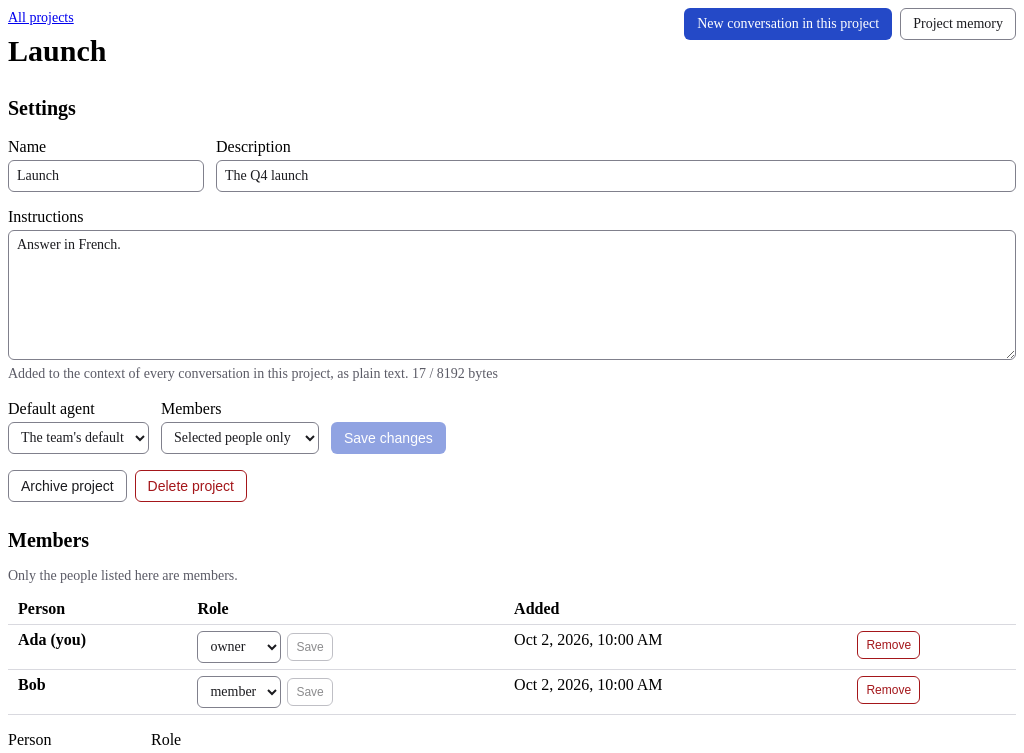
Test case: project members (KOBE-164, ac-1) › changes a role and removes a member after confirming
Select "owner" in the dropdown named "Project role of Bob" next to "Bob" at [239, 692], box [197,676,281,708]
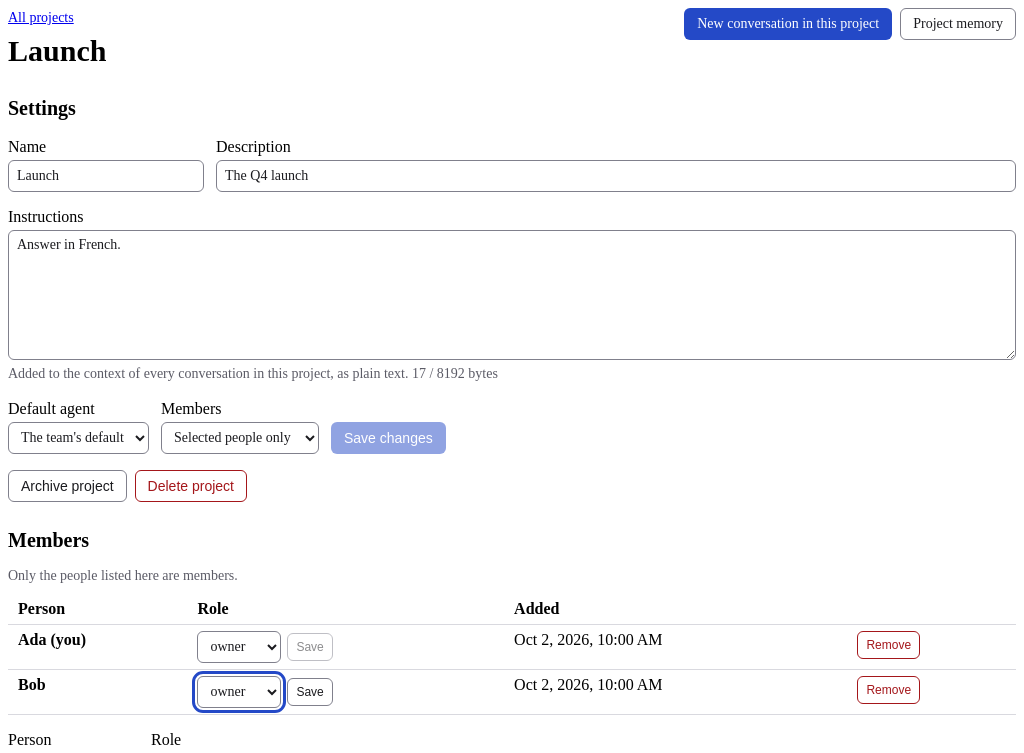
Click the button "Save" in the row of "Bob".
click(310, 692)  # box [287,678,333,706]
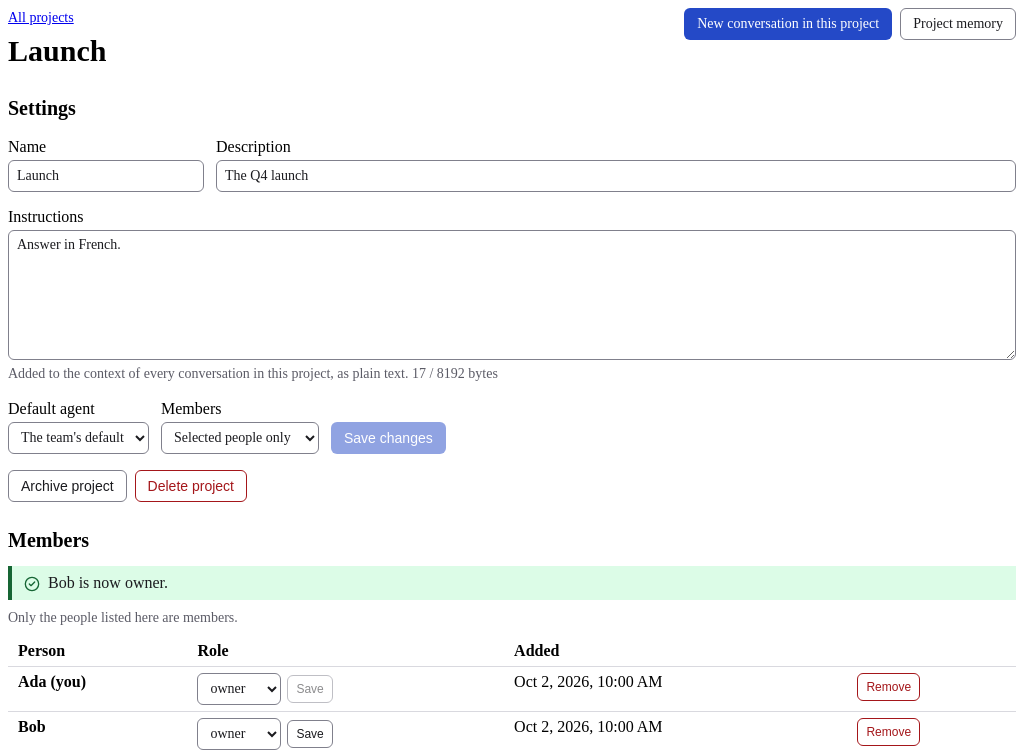
Expected: the text "Bob is now owner." is shown, [48,574,168,590]
Click the 2nd button "Remove".
click(889, 732)  # box [857,718,920,746]
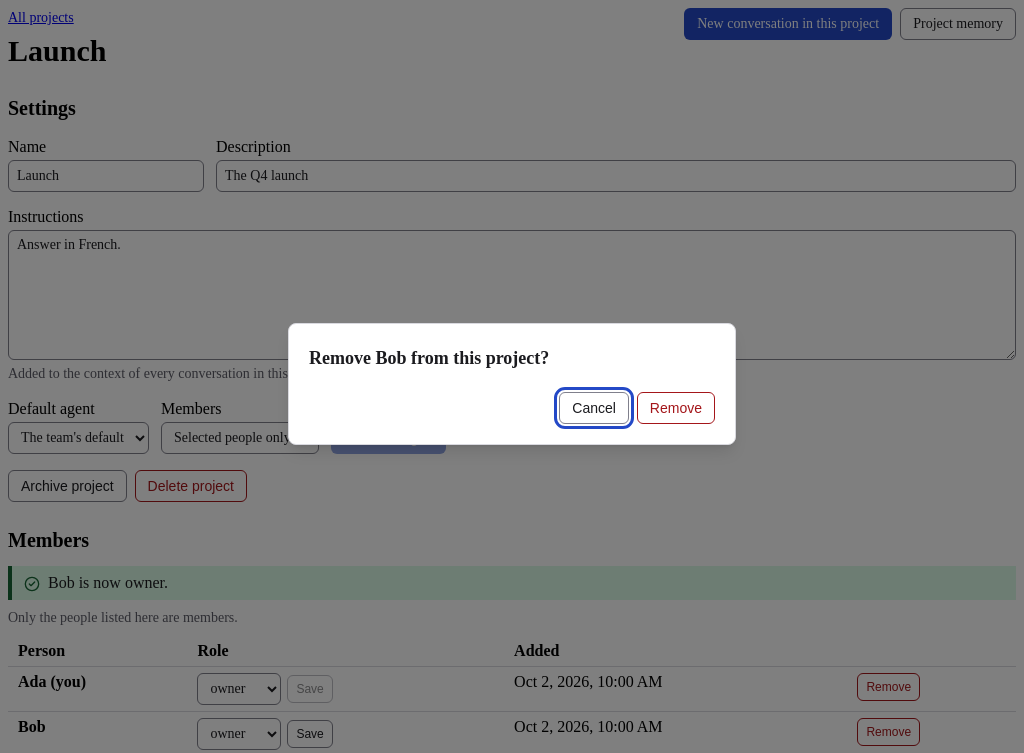
Click the button "Remove".
click(676, 408)  # box [637,392,715,424]
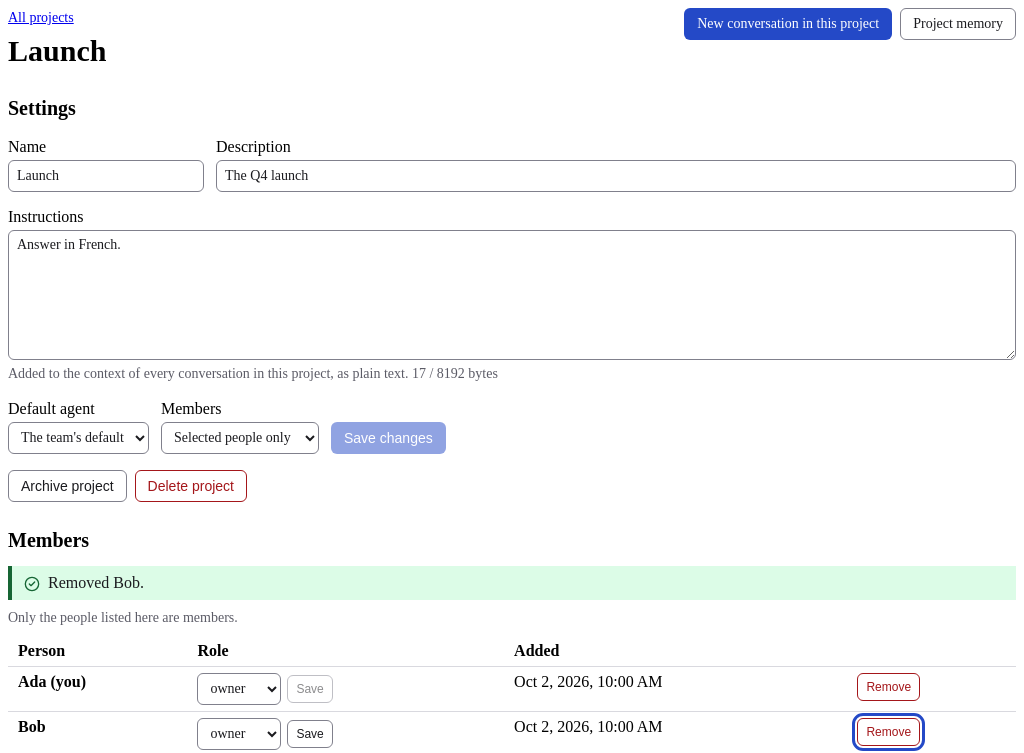
Expected: the text "Removed Bob." is shown, [48,574,144,590]
